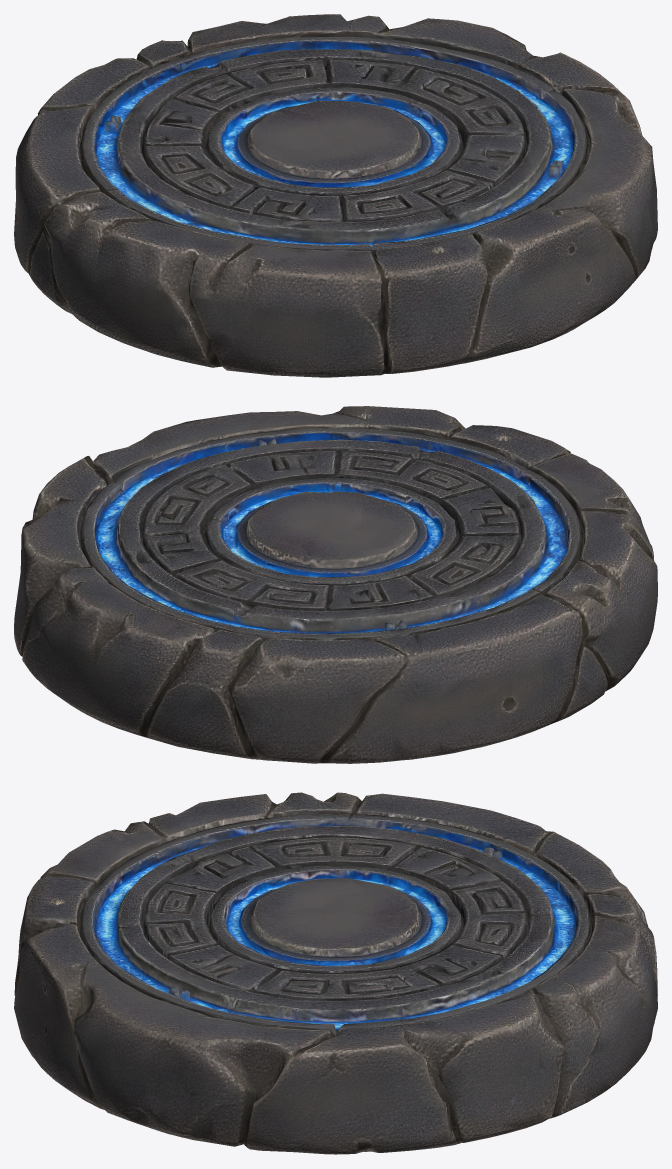
File: seal_stone.glb
3 renders of one model, top to bottom at view 1: azimuth 30°, elevation 25°; view 2: azimuth 150°, elevation 25°; view 3: azimuth 270°, elevation 25°, orthographic.
Parts seen in each view (by area): view 1: tripo_node_2718b2d4-45e5-4186-a826-39484f96f1d9; view 2: tripo_node_2718b2d4-45e5-4186-a826-39484f96f1d9; view 3: tripo_node_2718b2d4-45e5-4186-a826-39484f96f1d9.
Boxes of the visible parts, x1,y1,x2,y2 form: tripo_node_2718b2d4-45e5-4186-a826-39484f96f1d9: (14,14,657,377); tripo_node_2718b2d4-45e5-4186-a826-39484f96f1d9: (14,406,657,763); tripo_node_2718b2d4-45e5-4186-a826-39484f96f1d9: (14,792,657,1154).
Size of the model in its own units: 1.8 by 0.3525 by 1.81.
1 material, 1 textured.
